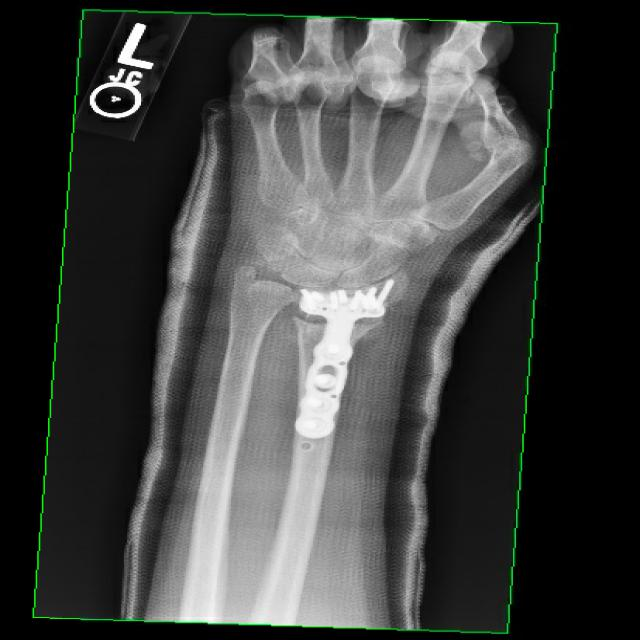x-ray: (290, 274, 403, 446)
